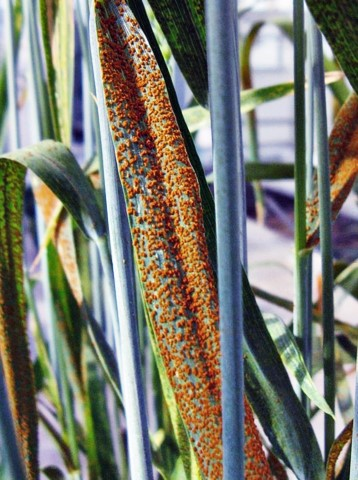Leaf Rust: (96, 18, 272, 475)
